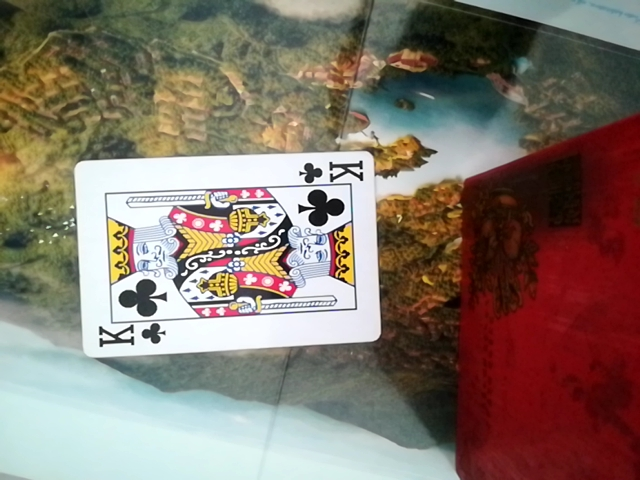mh k: (69, 154, 381, 358)
